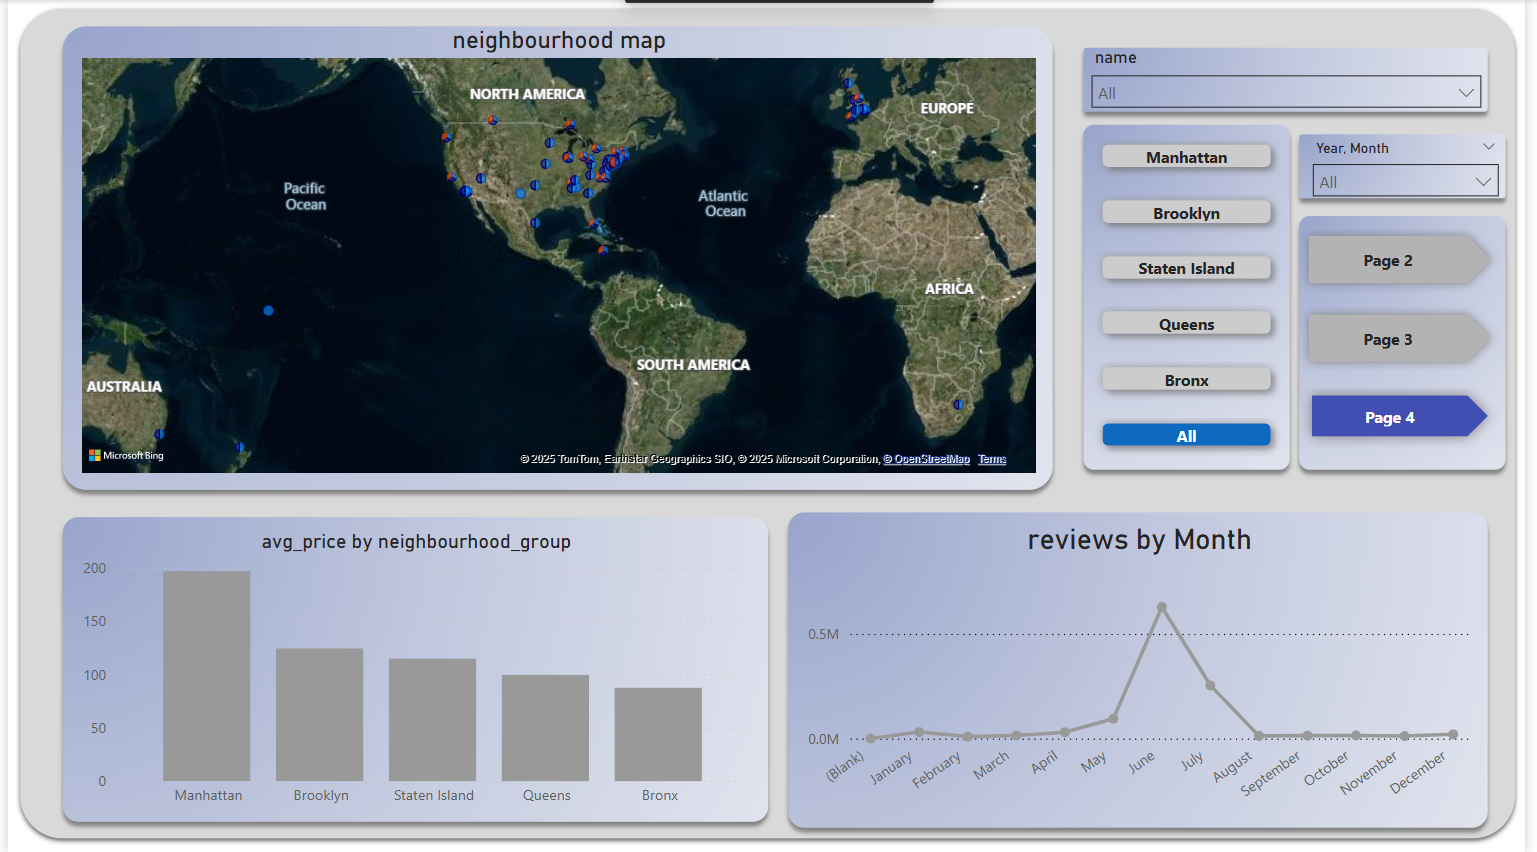

The dashboard page shown, as its layout file describes it:
{"tool":"powerbi","page":{"name":"Page 1","canvas":[1280,720],"ordinal":0},"visuals":[{"type":"map","title":"neighbourhood map","fields":{"Category":["ab_nyc_cleaned.neighbourhood"],"Series":["ab_nyc_cleaned.room_type"]},"box":[0,0,840,420],"z":0},{"type":"slicer","fields":{"Values":["ab_nyc_cleaned.neighbourhood_group"]},"box":[841.7,53.3,218.3,203.3],"z":1000},{"type":"clusteredColumnChart","fields":{"Y":["ab_nyc_cleaned.avg_price"],"Category":["ab_nyc_cleaned.neighbourhood_group"]},"box":[0,420,395.7,300],"z":2000},{"type":"lineChart","title":"reviews by Month","fields":{"Category":["ab_nyc_cleaned.new_last_review.Variation.Date Hierarchy.Month"],"Y":["Sum(ab_nyc_cleaned.number_of_reviews)"]},"box":[395.7,420,884.3,300],"z":3000},{"type":"slicer","fields":{"Values":["ab_nyc_cleaned.new_last_review.Variation.Date Hierarchy.Year"]},"box":[1056.7,51.7,223.3,368.3],"z":4000},{"type":"slicer","fields":{"Values":["ab_nyc_cleaned.room_type"]},"box":[840,255,216.7,165],"z":5000},{"type":"textbox","box":[841.7,0,438.3,53.3],"z":5001}]}

Visuals, with their boxes in screenshot pixels (x1, y1, x2, y2), scaled from the page's 1280x720 canvas onto the 1537x852 screenshot:
"neighbourhood map" map: 0,0,1009,497
slicer - ab_nyc_cleaned.neighbourhood_group: 1011,63,1273,304
clusteredColumnChart - ab_nyc_cleaned.avg_price x ab_nyc_cleaned.neighbourhood_group: 0,497,475,851
"reviews by Month" lineChart: 475,497,1536,851
slicer - ab_nyc_cleaned.new_last_review.Variation.Date Hierarchy.Year: 1269,61,1536,497
slicer - ab_nyc_cleaned.room_type: 1009,302,1269,497
textbox: 1011,0,1536,63
